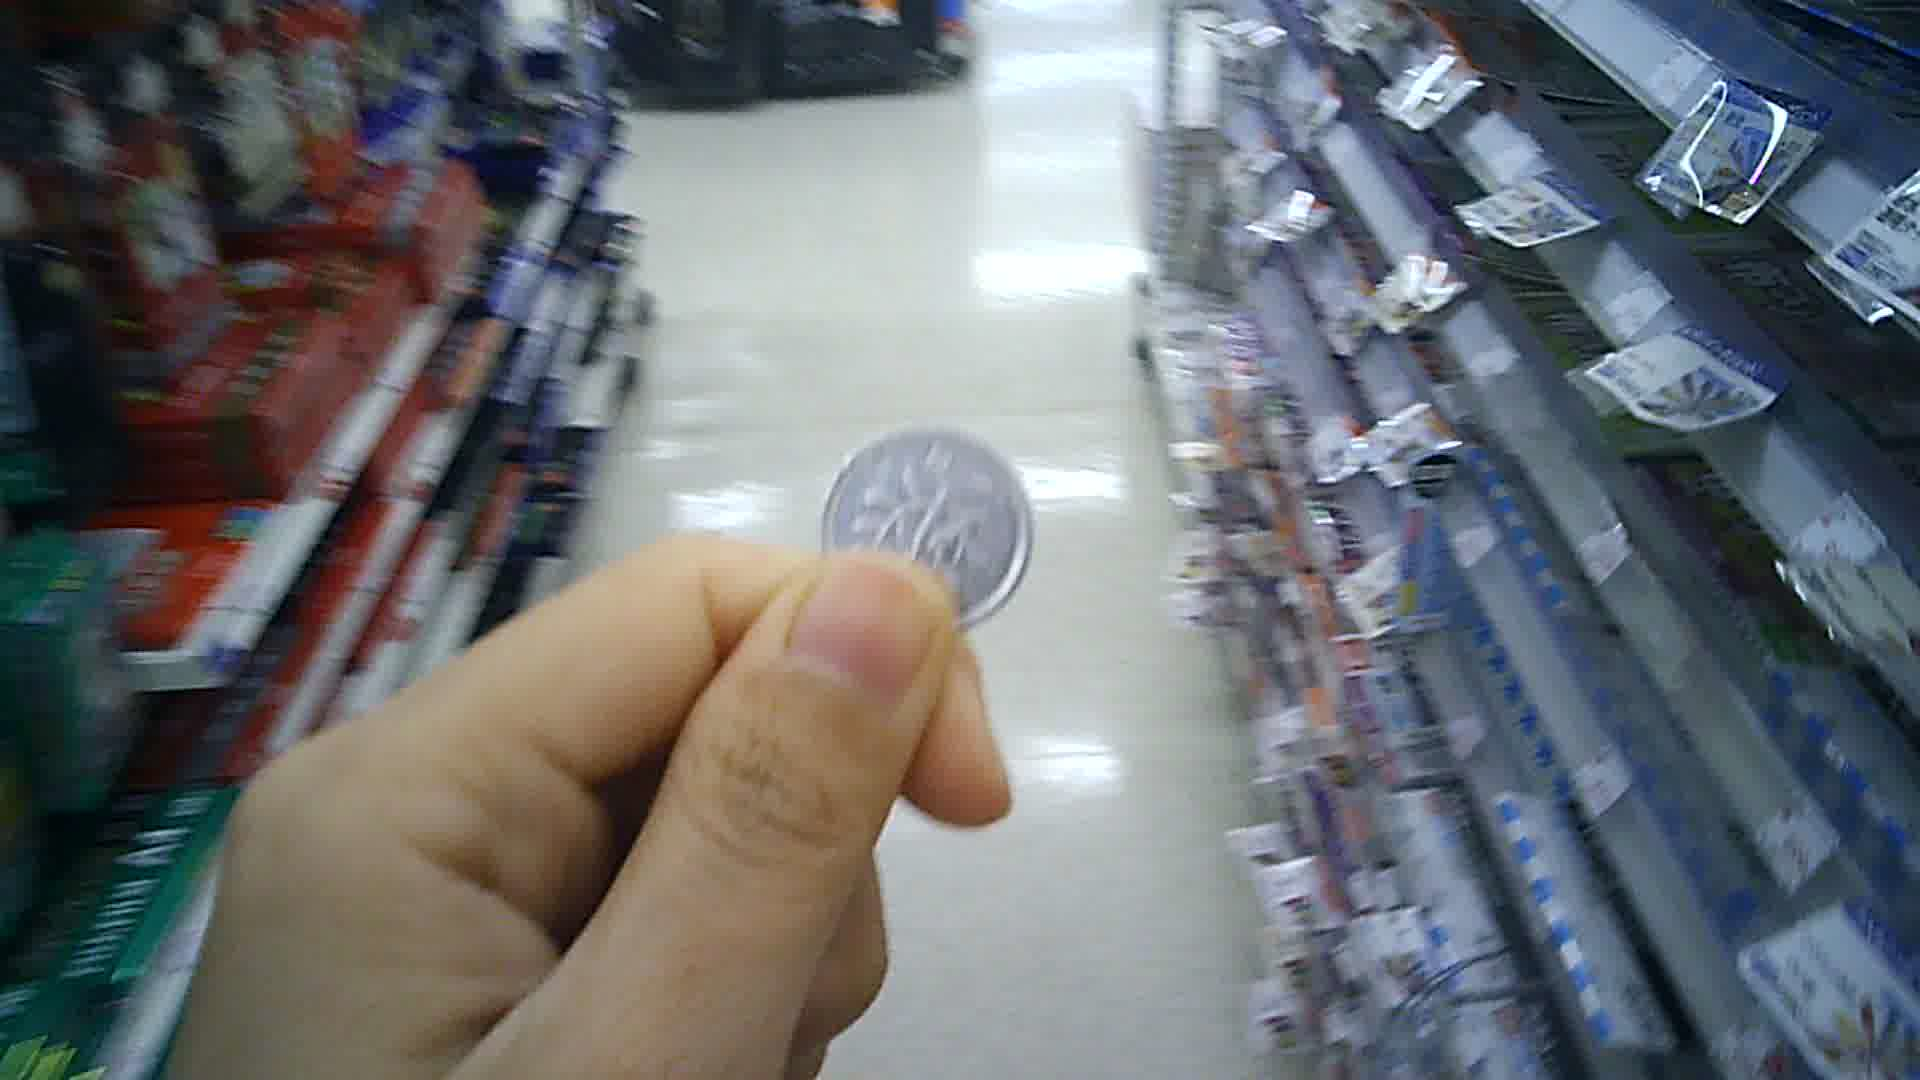1 Yen: (816, 431, 1036, 636)
